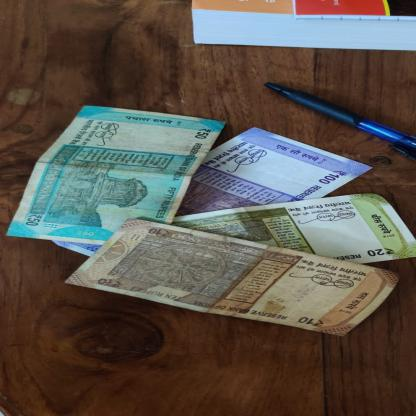New100Back: (51, 127, 376, 257)
New10Back: (65, 217, 402, 337)
New20Back: (177, 193, 416, 264)
New50Back: (5, 104, 226, 245)
